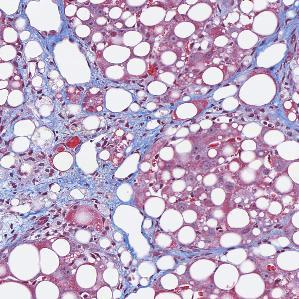fibrosis: (21, 148, 152, 220)
